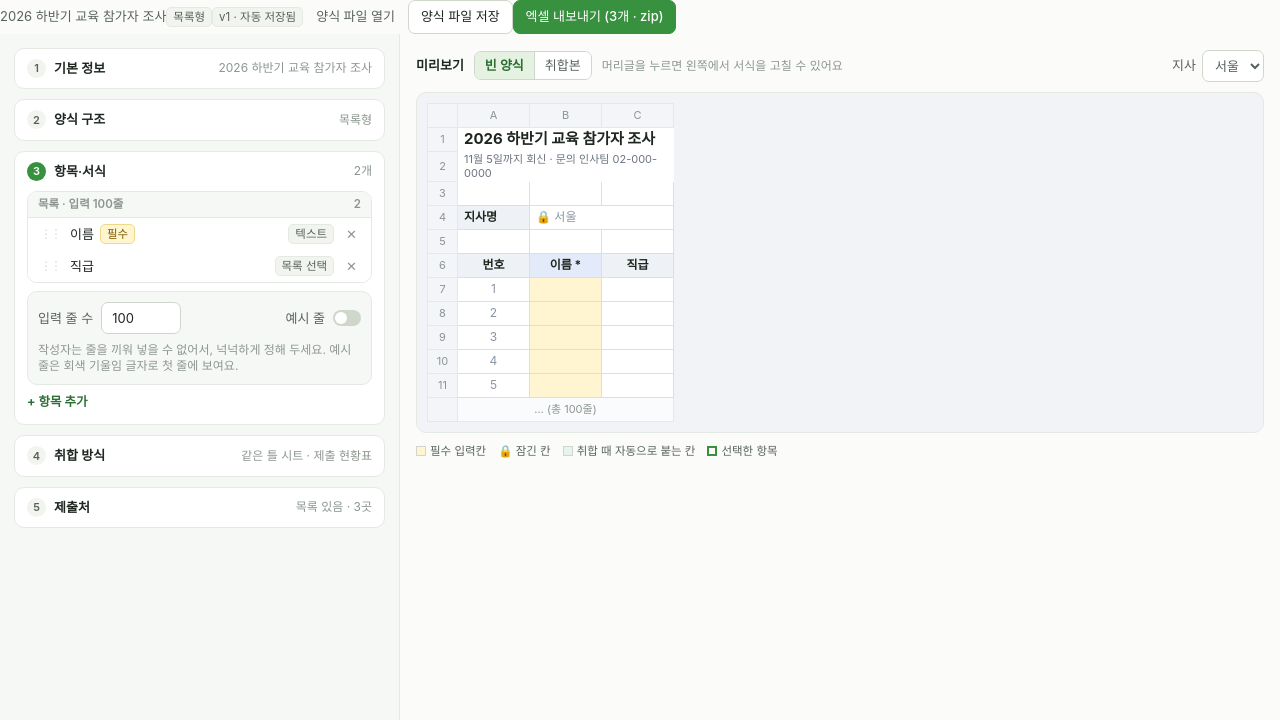
기한 없이 내보내기: ② 확인에 "기한 없음"
Click the button "엑셀 내보내기 (3개 · zip)" at coordinates (595, 17), box [513,0,676,34]
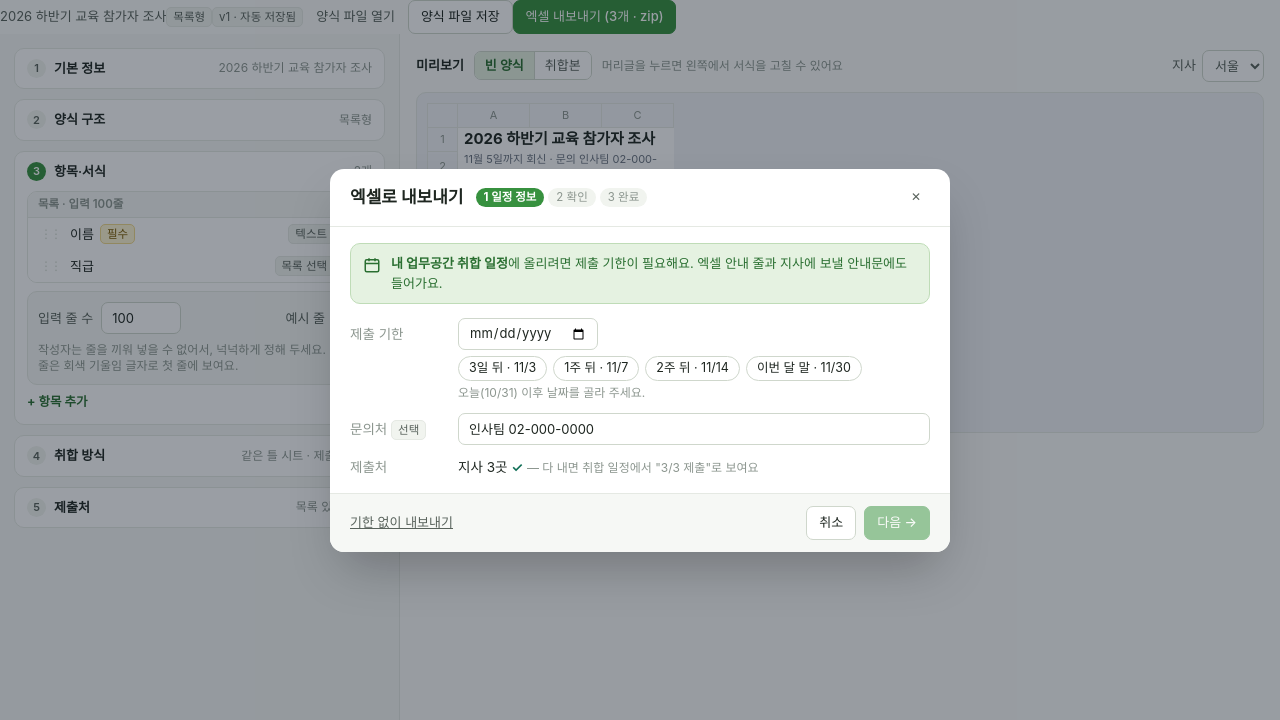
Click the button "기한 없이 내보내기" at coordinates (402, 523), box [350,513,453,532]
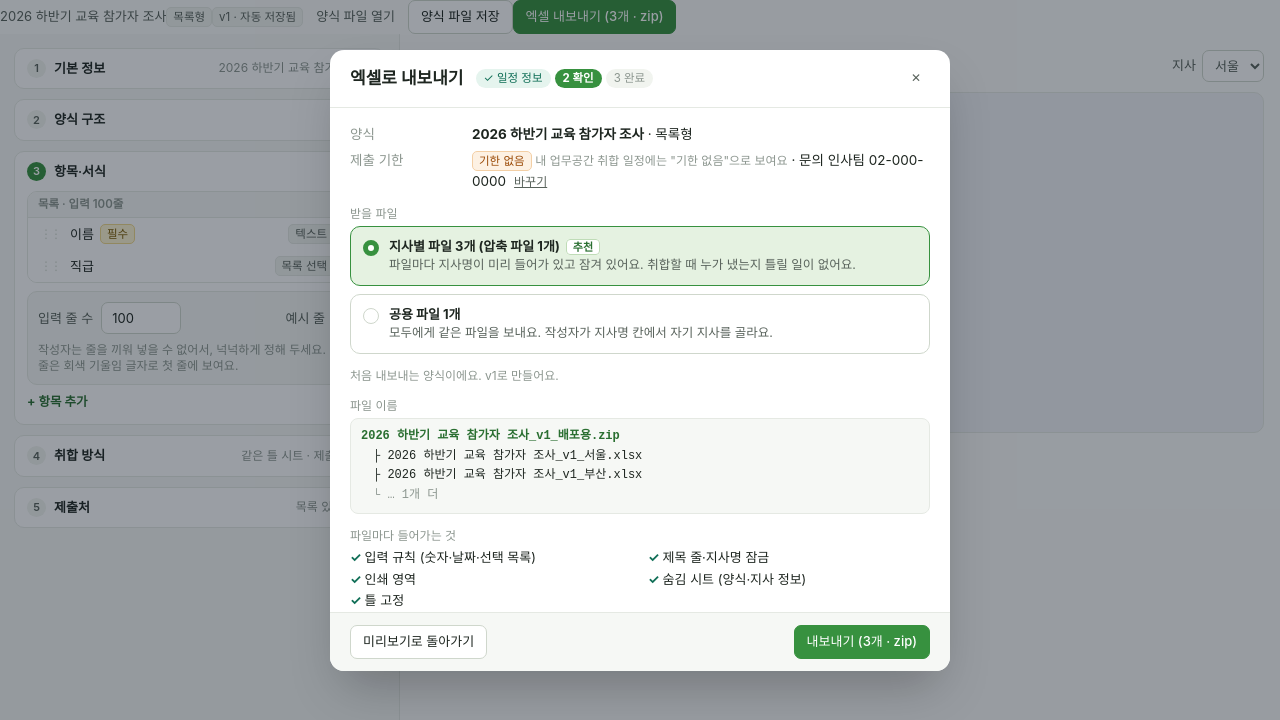
Check: the text "기한 없음" is shown, box [472,151,532,171]
